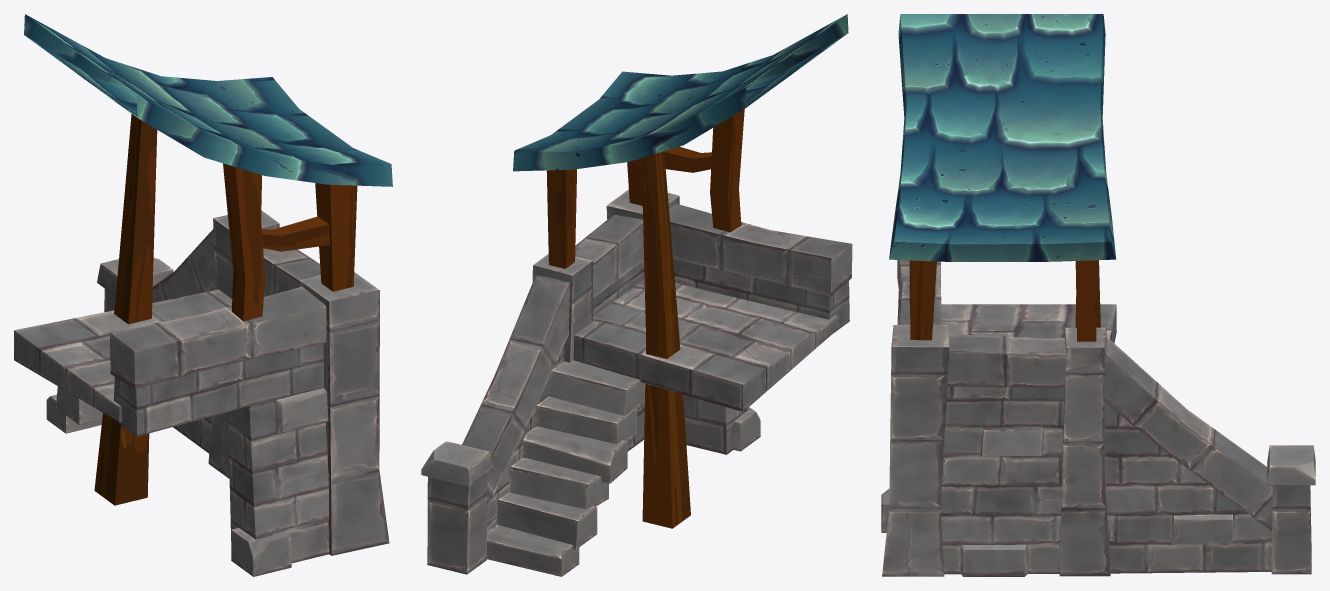
Rendered from SM_BLD_stairs_v02_01.fbx.
3 renders of one model, left to right at view 1: azimuth 30°, elevation 25°; view 2: azimuth 150°, elevation 25°; view 3: azimuth 270°, elevation 25°, orthographic. The views are drawn at different scales.
Visible parts, largest first — view 1: SM_BLD_stairs_v02_01; view 2: SM_BLD_stairs_v02_01; view 3: SM_BLD_stairs_v02_01.
Boxes of the visible parts, box(x1,y1,x2,y2) form: SM_BLD_stairs_v02_01: box(14, 14, 392, 576); SM_BLD_stairs_v02_01: box(421, 14, 852, 576); SM_BLD_stairs_v02_01: box(881, 14, 1315, 576).
Size of the model in its own units: 315 by 587 by 508.
